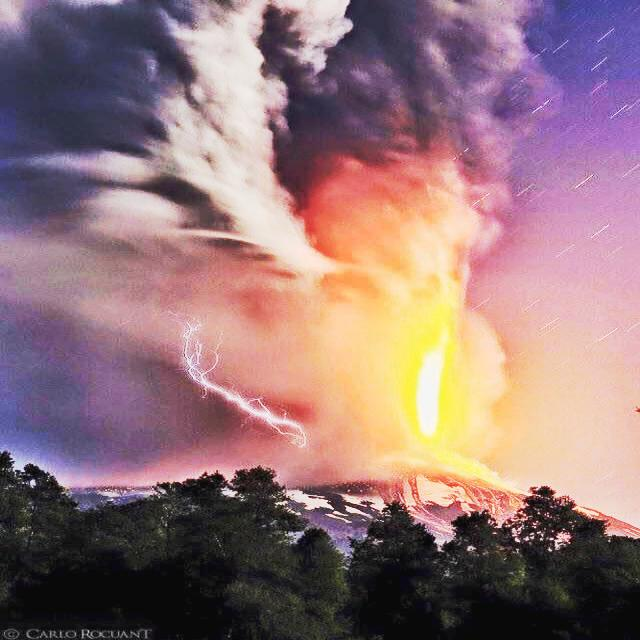api: (394, 272, 523, 504)
asap: (1, 1, 367, 299), (2, 237, 351, 412), (363, 1, 562, 279)
